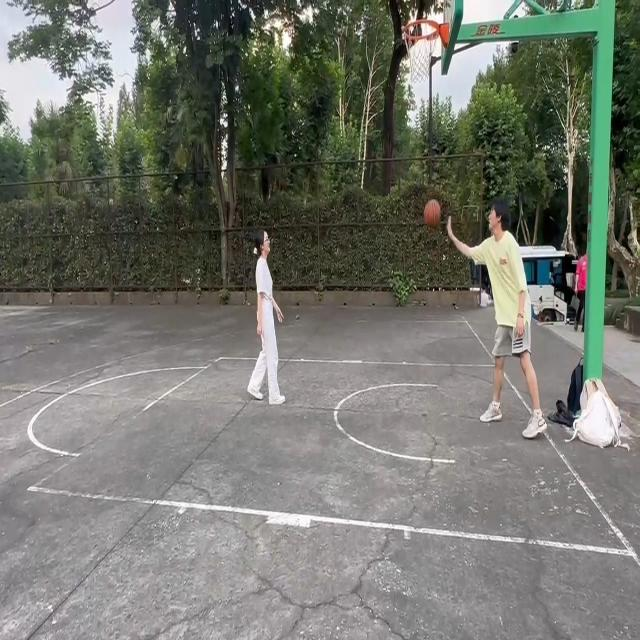basketball: (402, 19, 448, 113)
rim: (424, 200, 442, 227)
